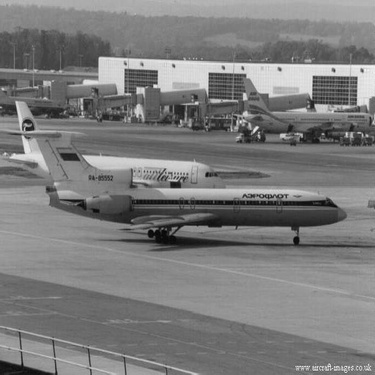airplane: (1, 114, 349, 252), (1, 99, 231, 198), (214, 69, 374, 142)
